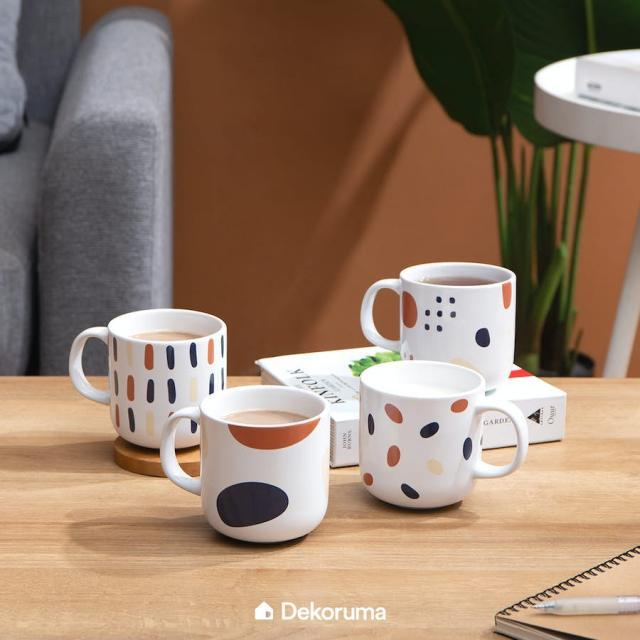cup: (346, 357, 539, 538)
